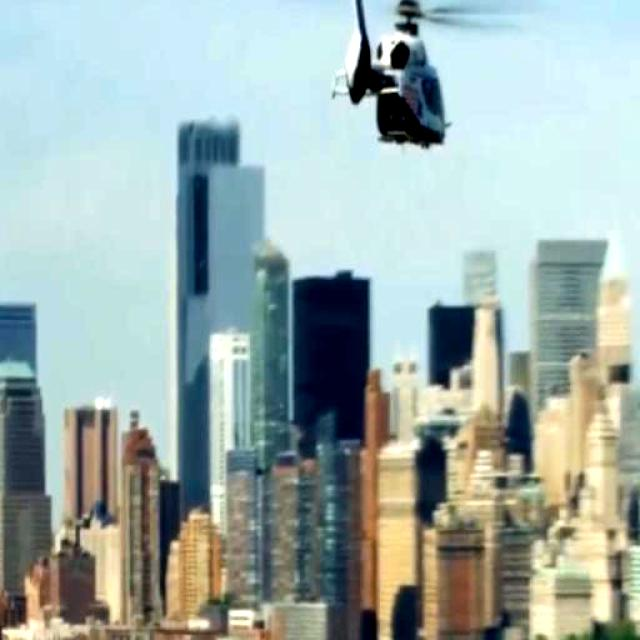drone: (324, 0, 505, 166)
